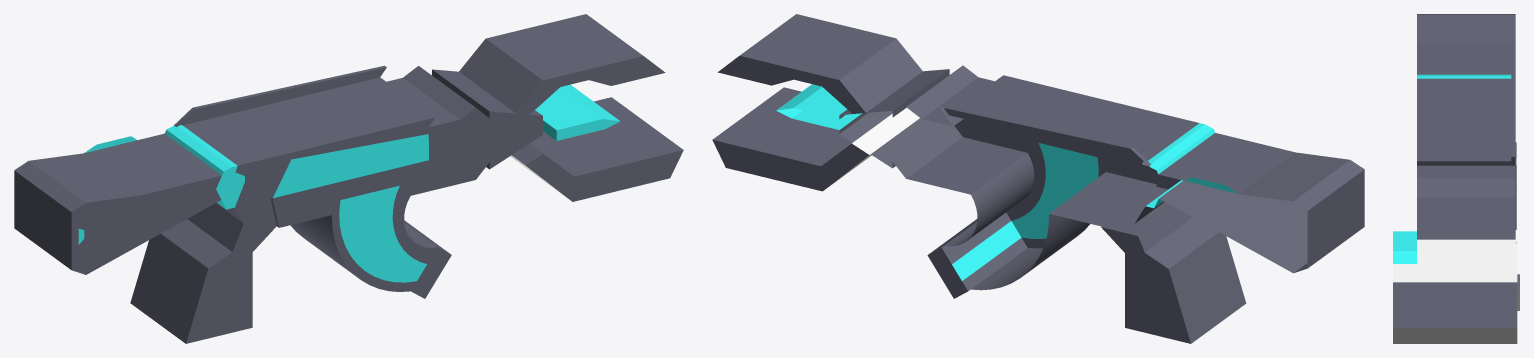
The picture shows the model from 3 angles, left to right: view 1: azimuth 30°, elevation 25°; view 2: azimuth 150°, elevation 25°; view 3: azimuth 270°, elevation 25°; orthographic projection. The views are drawn at different scales.
Visible parts, largest first — view 1: Model; view 2: Model; view 3: Model.
Boxes of the visible parts, x1=… form: Model: x1=14, y1=14, x2=683, y2=343; Model: x1=712, y1=14, x2=1364, y2=343; Model: x1=1393, y1=14, x2=1519, y2=343.
Size of the model in its own units: 314 by 96.38 by 67.
